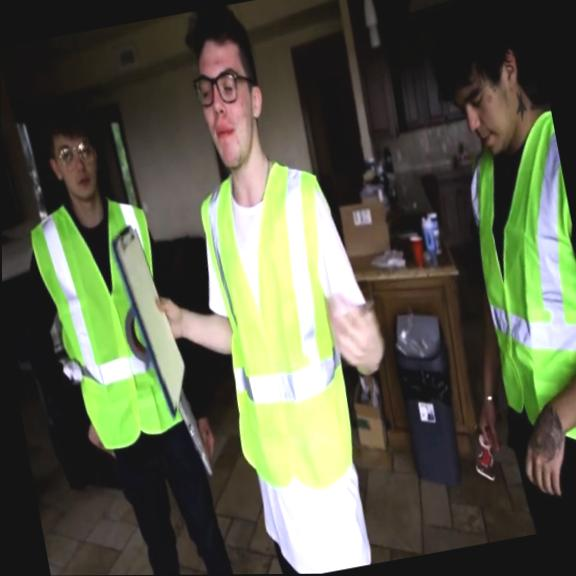safety_vest: (192, 154, 375, 499), (452, 107, 576, 473), (25, 186, 185, 459)
